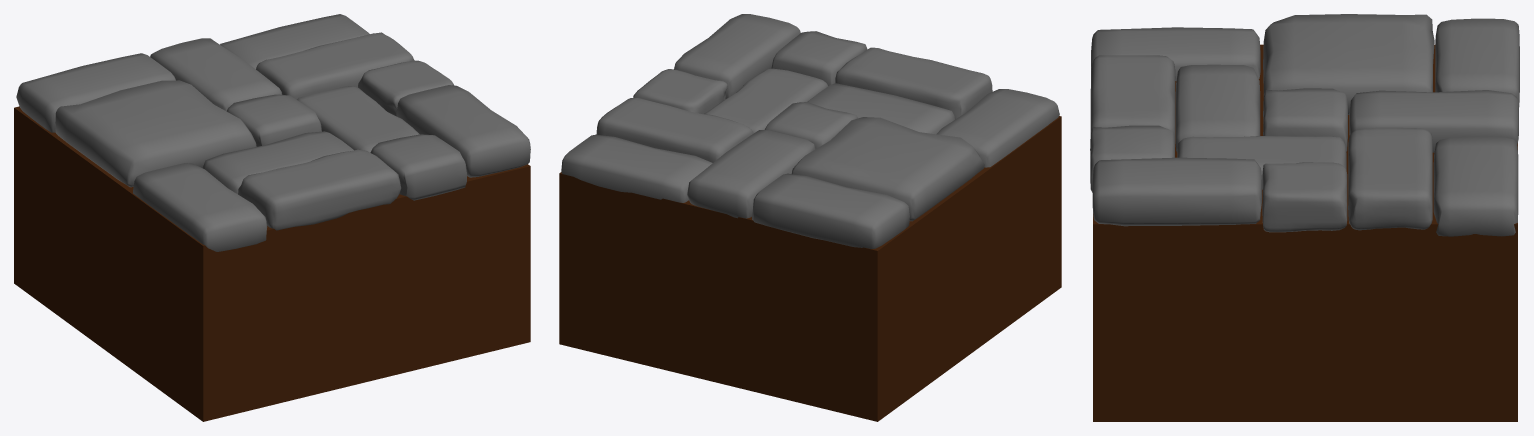
The model's file is floor_block.fbx.
The picture shows the model from 3 angles, left to right: view 1: azimuth 30°, elevation 25°; view 2: azimuth 150°, elevation 25°; view 3: azimuth 270°, elevation 25°; orthographic projection. The views are drawn at different scales.
Visible parts, largest first — view 1: ground, block2, block1.003, block1.001, block1.008, block1.006, block1, block1.004, block3_001, block1.007, block1.002, block1.005 (+2 smaller); view 2: ground, block2, block1, block1.005, block1.003, block1.004, block1.006, block1.008, block1.001, block1.007, block1.002, block3_001 (+2 smaller); view 3: ground, block2, block1.008, block1.006, block1.005, block1.004, block1, block1.003, block1.002, block3_003, block1.001, block1.007 (+2 smaller).
Boxes of the visible parts, x1,y1,x2,y2 form: ground: [14, 106, 530, 421]; block2: [55, 80, 256, 187]; block1.003: [238, 149, 401, 230]; block1.001: [133, 163, 267, 251]; block1.008: [396, 85, 530, 177]; block1.006: [256, 32, 414, 99]; block1: [16, 53, 175, 132]; block1.004: [150, 38, 282, 111]; block3_001: [370, 134, 466, 200]; block1.007: [297, 86, 419, 152]; block1.002: [202, 131, 353, 194]; block1.005: [220, 14, 369, 68]; ground: [559, 116, 1061, 421]; block2: [791, 117, 984, 221]; block1: [752, 173, 909, 248]; block1.005: [561, 134, 712, 202]; block1.003: [835, 47, 992, 119]; block1.004: [687, 130, 815, 218]; block1.006: [596, 97, 753, 162]; block1.008: [674, 14, 800, 98]; block1.001: [936, 89, 1059, 167]; block1.007: [704, 68, 827, 133]; block1.002: [807, 83, 954, 134]; block3_001: [771, 31, 867, 85]; ground: [1093, 44, 1517, 421]; block2: [1263, 14, 1434, 114]; block1.008: [1092, 157, 1261, 226]; block1.006: [1348, 127, 1432, 230]; block1.005: [1433, 136, 1518, 236]; block1.004: [1349, 90, 1518, 152]; block1: [1435, 18, 1519, 111]; block1.003: [1090, 55, 1175, 143]; block1.002: [1175, 64, 1260, 152]; block3_003: [1262, 162, 1347, 232]; block1.001: [1091, 27, 1260, 80]; block1.007: [1177, 136, 1346, 189].
Size of the model in its own units: 202 by 121 by 202.
